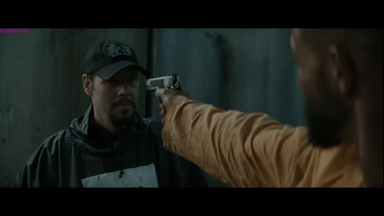firearm: (144, 69, 181, 92)
